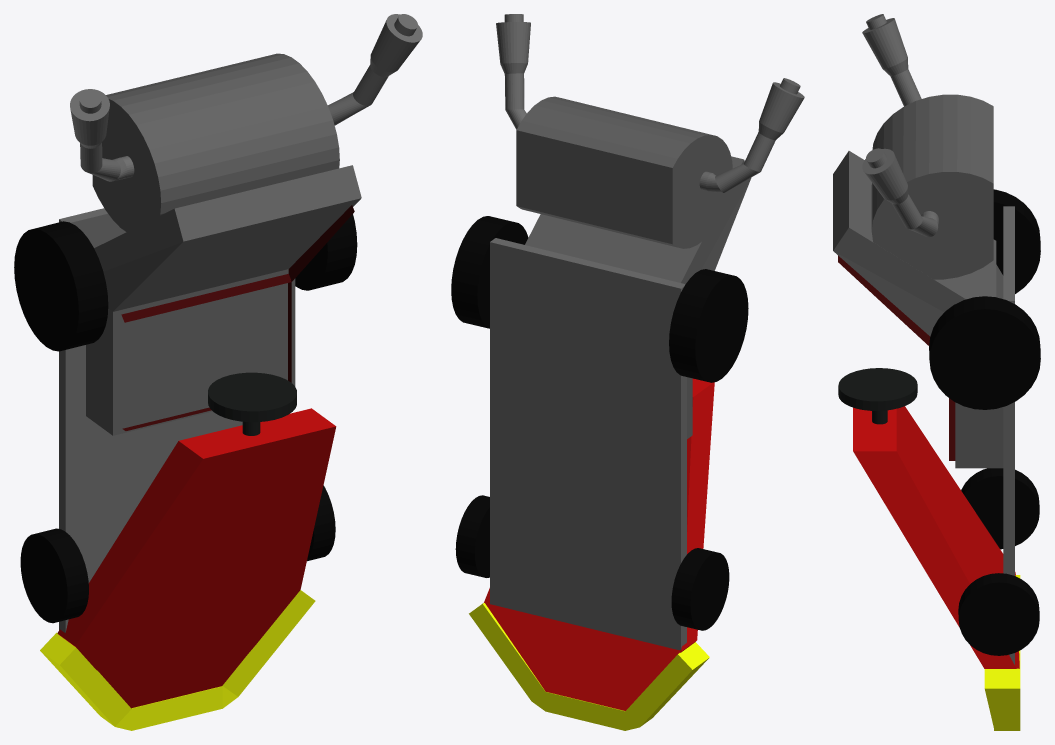
File: Kart_1.obj
The picture shows the model from 3 angles, left to right: view 1: azimuth 30°, elevation 25°; view 2: azimuth 150°, elevation 25°; view 3: azimuth 270°, elevation 25°; orthographic projection. The views are drawn at different scales.
Parts seen in each view (by area): view 1: Asiento, Capo, Cube, Ruedas_Traseras, Parachoques, Ruedas_Delanteras, Volante, Tubo_1, Cuero, Tubo_2; view 2: Cube, Asiento, Capo, Ruedas_Traseras, Parachoques, Ruedas_Delanteras, Tubo_2, Tubo_1; view 3: Asiento, Capo, Ruedas_Traseras, Ruedas_Delanteras, Cube, Volante, Tubo_1, Tubo_2, Parachoques, Cuero.
Boxes of the visible parts, x1,y1,x2,y2 form: Asiento: (86, 53, 361, 435); Capo: (57, 408, 336, 708); Cube: (59, 208, 242, 632); Ruedas_Traseras: (14, 214, 357, 351); Parachoques: (40, 590, 315, 730); Ruedas_Delanteras: (20, 485, 335, 623); Volante: (208, 372, 296, 435); Tubo_1: (328, 14, 422, 125); Cuero: (121, 205, 354, 430); Tubo_2: (70, 89, 134, 181); Cube: (490, 238, 686, 650); Asiento: (516, 96, 751, 438); Capo: (484, 378, 714, 710); Ruedas_Traseras: (451, 216, 748, 382); Parachoques: (469, 603, 709, 730); Ruedas_Delanteras: (455, 495, 729, 630); Tubo_2: (699, 78, 804, 192); Tubo_1: (496, 14, 530, 129); Asiento: (833, 94, 1003, 468); Capo: (853, 406, 1019, 668); Ruedas_Traseras: (929, 189, 1040, 409); Ruedas_Delanteras: (958, 468, 1039, 655); Cube: (1003, 206, 1014, 664); Volante: (838, 368, 917, 424); Tubo_1: (862, 148, 938, 237); Tubo_2: (862, 14, 921, 106); Parachoques: (984, 575, 1020, 730); Cuero: (838, 255, 955, 460).
Bounding box in the file's own units: 1.83 × 3.58 × 1.07.
